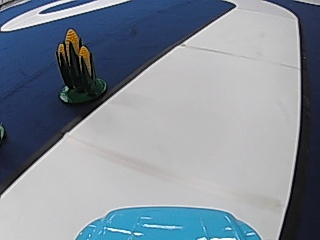corn: (54, 26, 107, 103)
